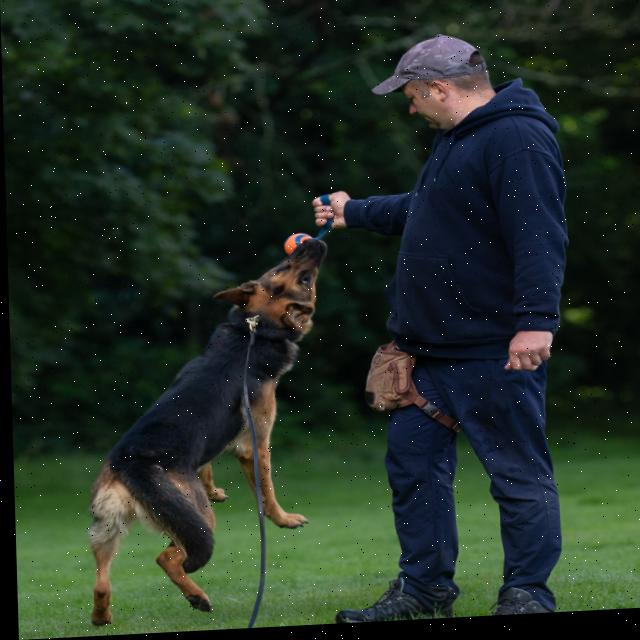GERMAN_SHEPHERD: (59, 224, 344, 638)
